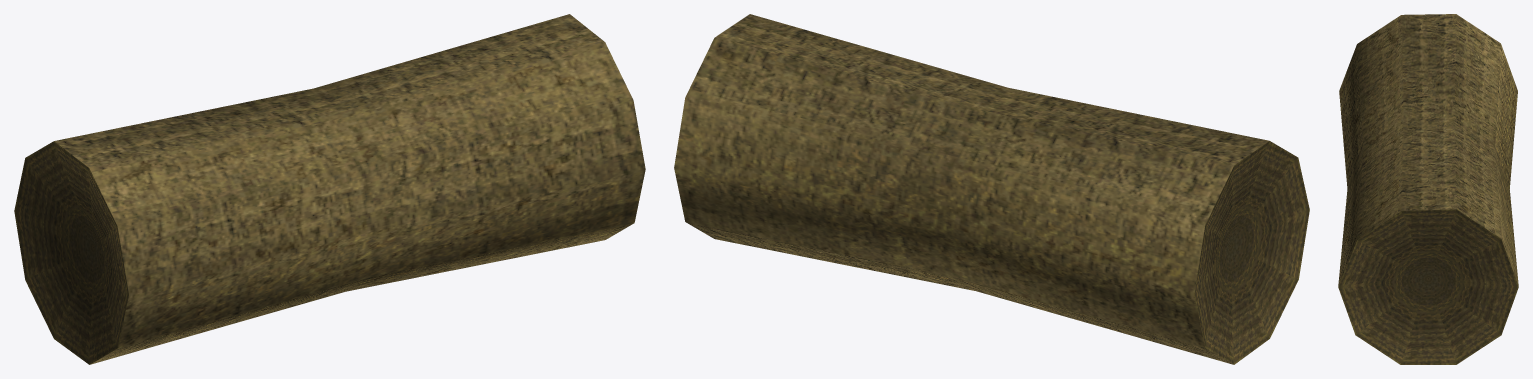
Rendered from thing_hake_roll01.fbx.
3 renders of one model, left to right at view 1: azimuth 30°, elevation 25°; view 2: azimuth 150°, elevation 25°; view 3: azimuth 270°, elevation 25°, orthographic. The views are drawn at different scales.
Visible parts, largest first — view 1: thing_hake_roll01; view 2: thing_hake_roll01; view 3: thing_hake_roll01.
Part boxes in pixels (x1,y1,x2,y2): thing_hake_roll01: (14, 14, 645, 364); thing_hake_roll01: (674, 14, 1309, 364); thing_hake_roll01: (1338, 14, 1518, 364).
Bounding box in the file's own units: 3.41 × 1.26 × 1.33.
